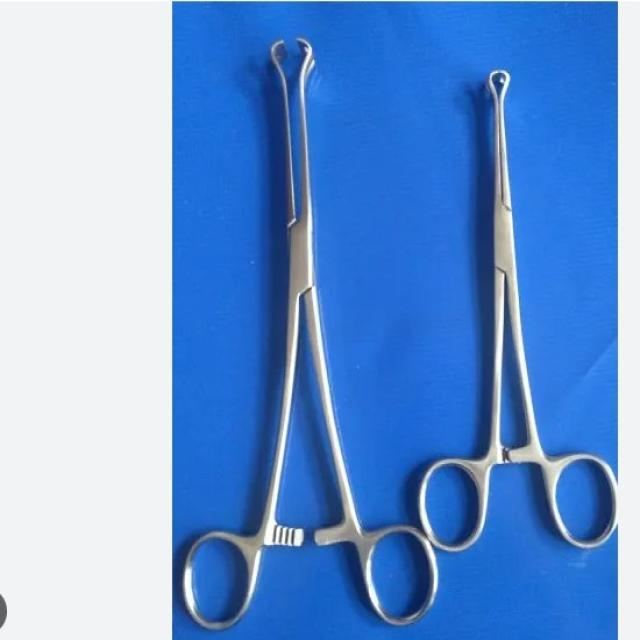Babcock Forceps: (178, 32, 442, 630), (416, 67, 622, 553)
